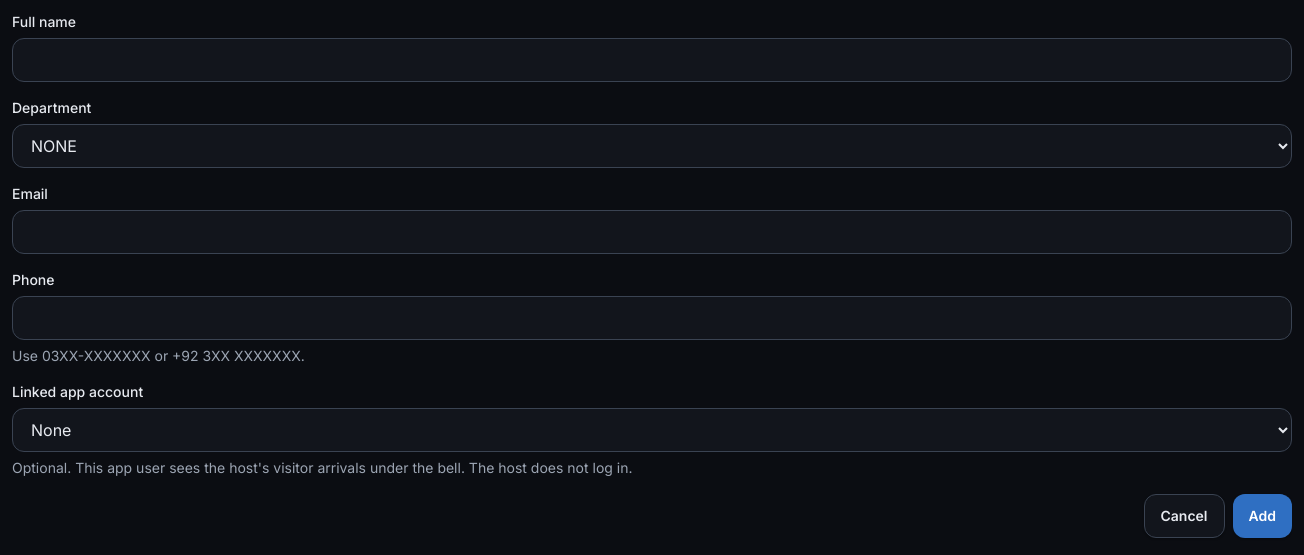
Test: host form: phone validation › rejects an invalid phone before submitting
Type "Imran Ali" into the field labelled "Full name". click: [652, 60]
box: [12,38,1292,82]
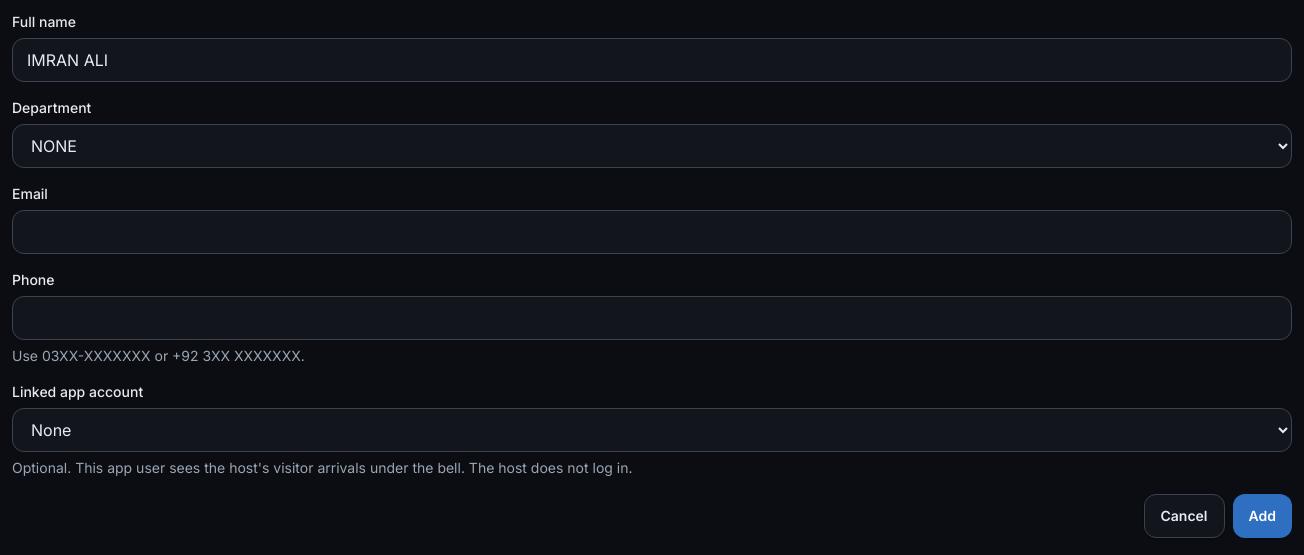
Type "13001234567" into the field labelled "Phone". click: [652, 318]
box: [12,296,1292,340]
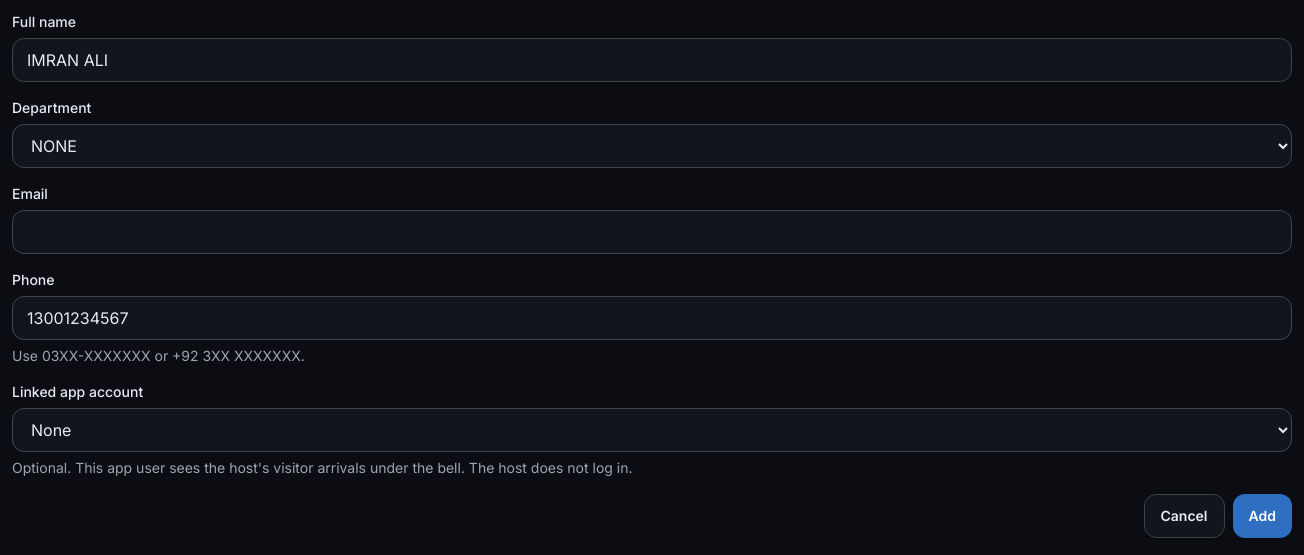
Submit the form labelled "Full name"
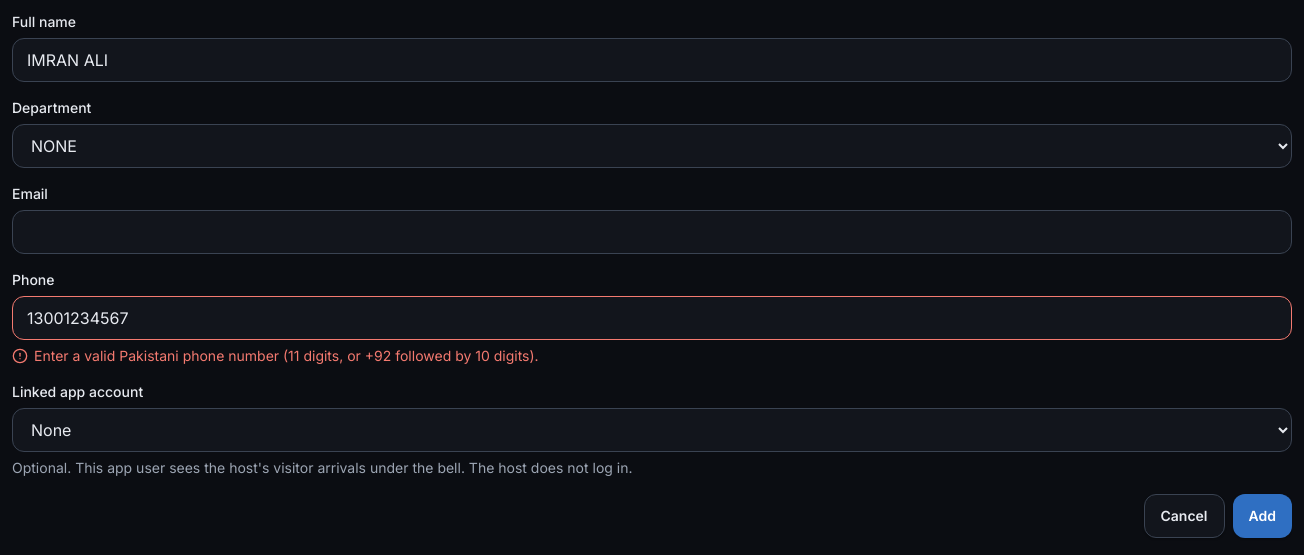
Now the text "valid Pakistani phone number" is shown, box [34,347,539,364]
